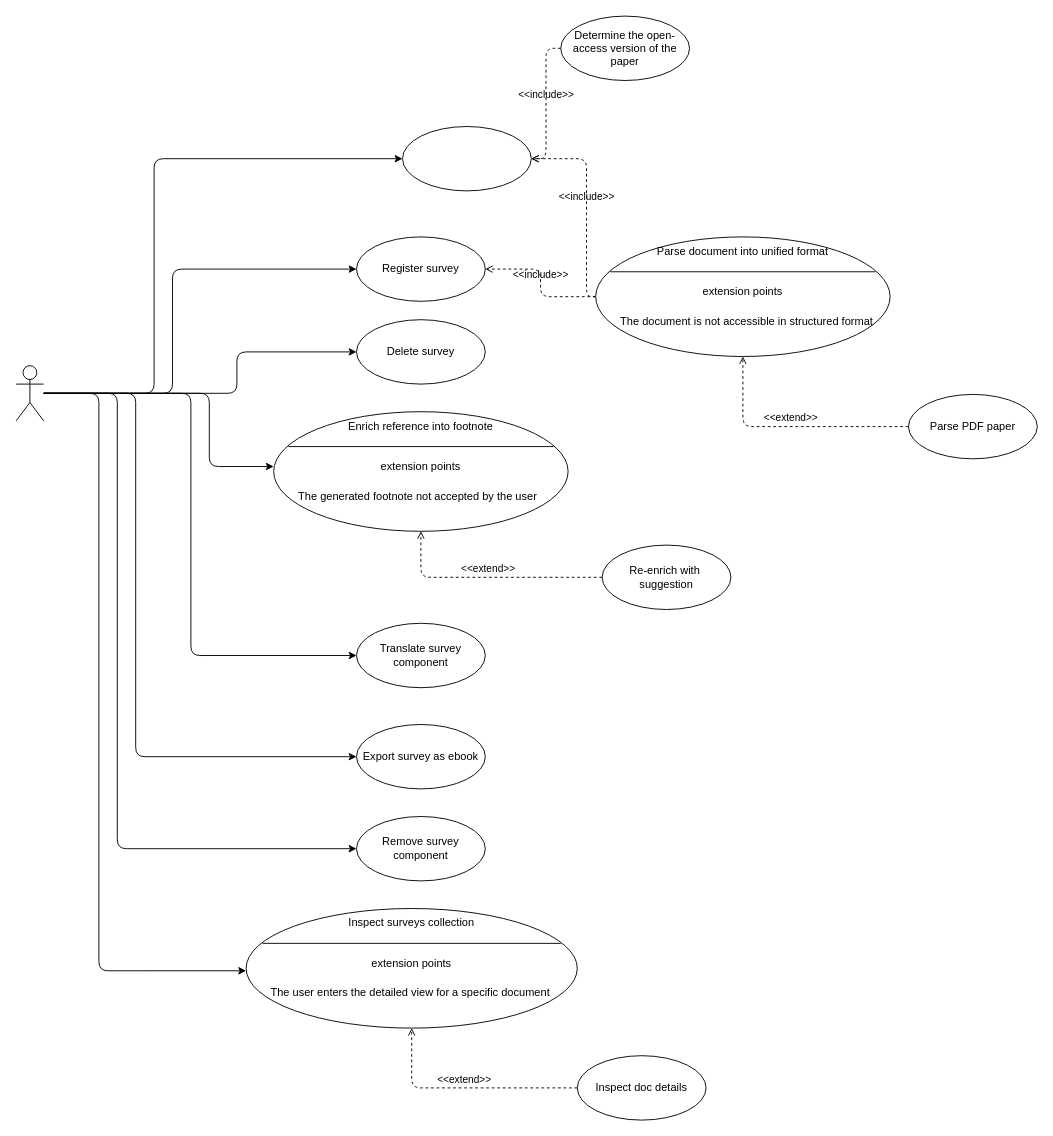
The diagram is 1053 pixels wide and 1136 high, and some of its shapes have lost their labels. Each missing label, with the centre of its shape:
Download referenced paper: point 466,158
User: point 29,393
